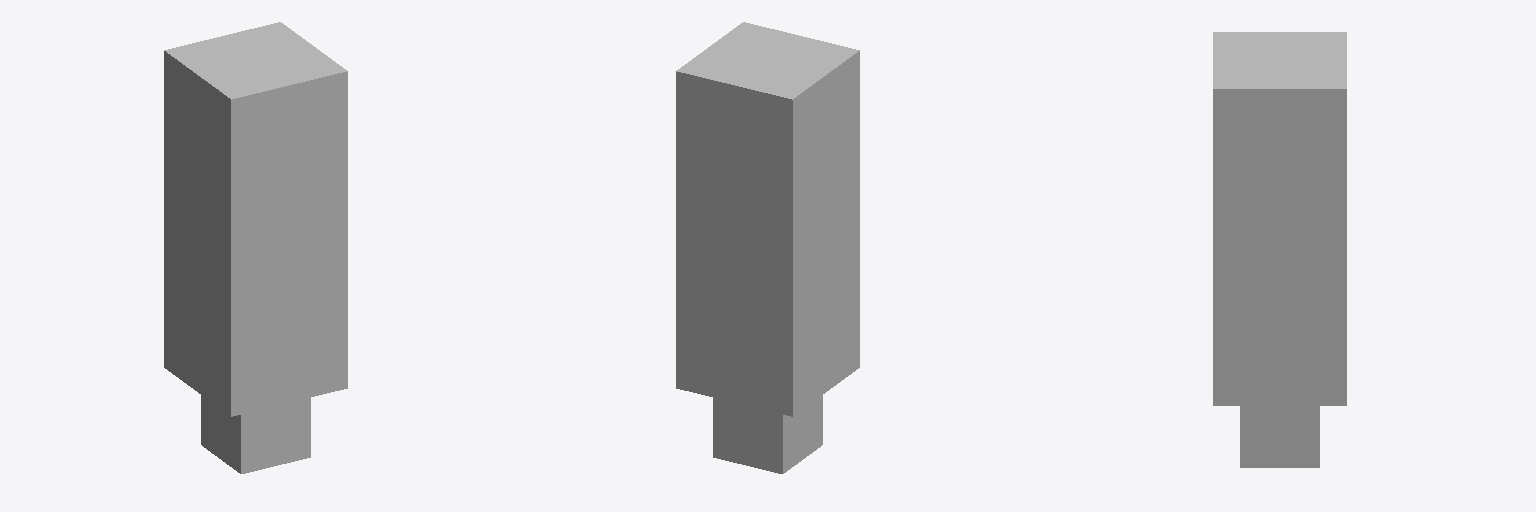
3 views of the same model, side by side, from view 1: azimuth 30°, elevation 25°; view 2: azimuth 150°, elevation 25°; view 3: azimuth 270°, elevation 25° (orthographic).
Visible parts, largest first — view 1: tree_4; view 2: tree_4; view 3: tree_4.
Boxes of the visible parts, x1,y1,x2,y2 form: tree_4: [164, 22, 347, 473]; tree_4: [676, 22, 859, 473]; tree_4: [1213, 32, 1346, 467].
Size of the model in its own units: 0.625 by 2 by 0.625.